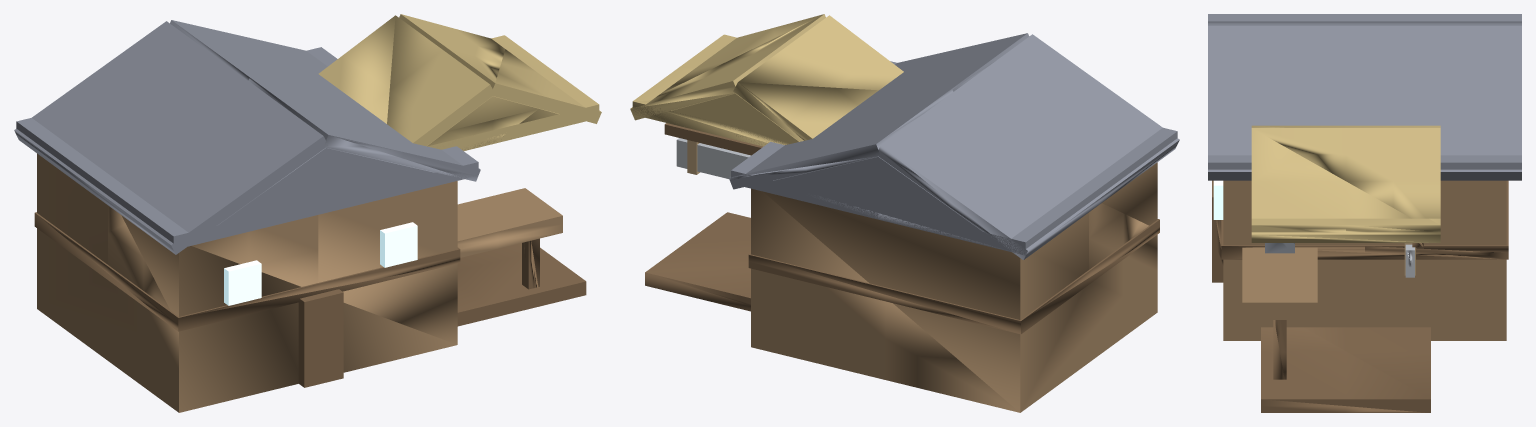
Rendered from toolsmith.glb.
3 renders of one model, left to right at view 1: azimuth 30°, elevation 25°; view 2: azimuth 150°, elevation 25°; view 3: azimuth 270°, elevation 25°, orthographic. The views are drawn at different scales.
Parts seen in each view (by area): view 1: ToolsmithWall; view 2: ToolsmithWall; view 3: ToolsmithWall.
Boxes of the visible parts, x1,y1,x2,y2 form: ToolsmithWall: (14,14,601,412); ToolsmithWall: (630,14,1179,412); ToolsmithWall: (1208,14,1521,412).
Size of the model in its own units: 2.76 by 1.45 by 1.66.
